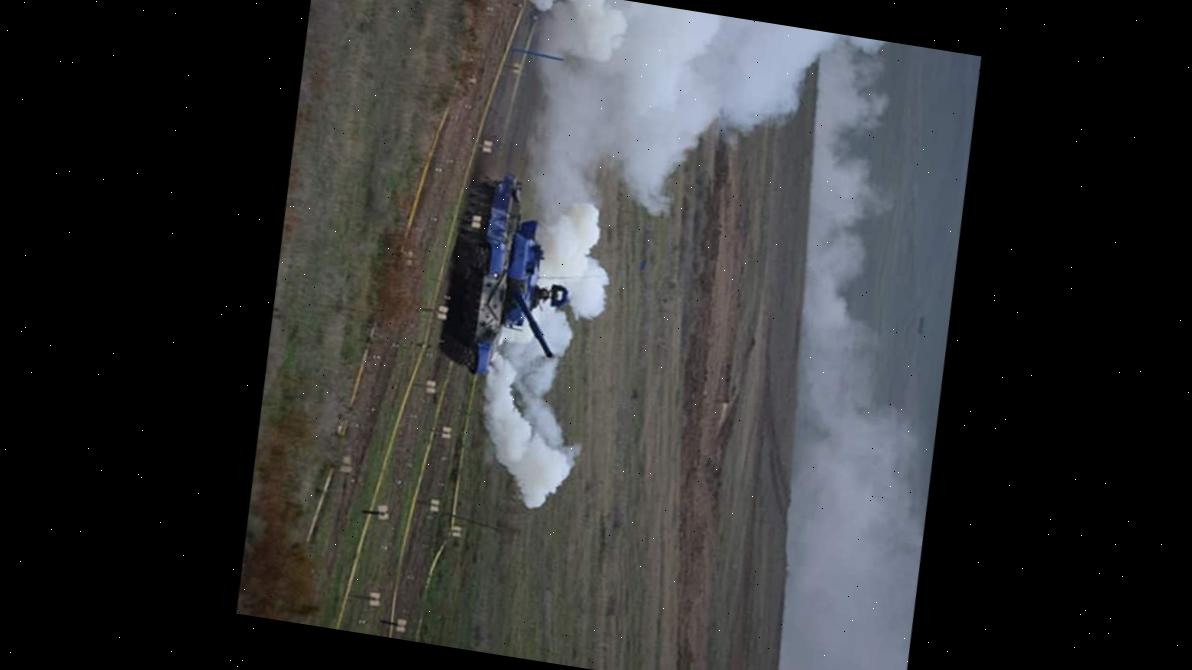tank: (428, 166, 591, 390)
